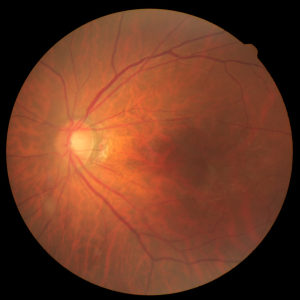retina_disease: (40, 89, 249, 204)
